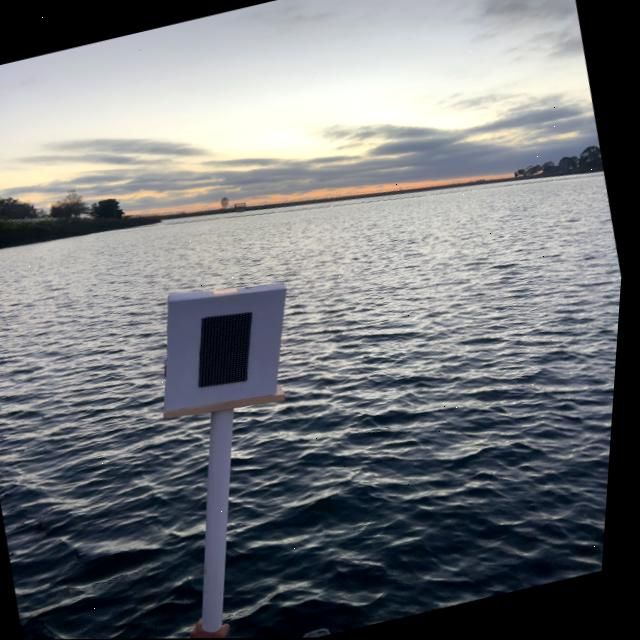led: (171, 292, 289, 410)
